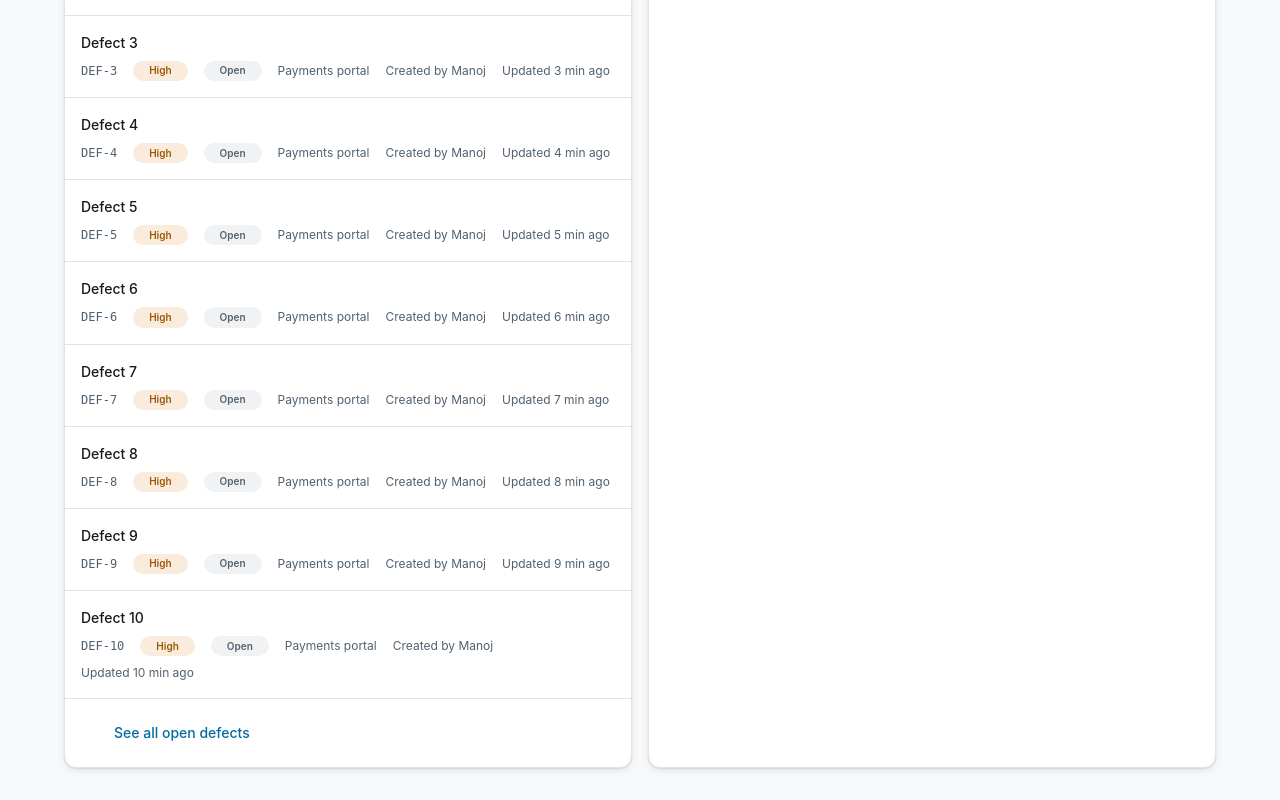
Scenario: MyWorkPage › shows a see-all button when more than 10 are open and explains it is coming soon
(page scrolled)
Step 1. Click the button "See all open defects" → (182, 733), box [81,715,283,751]
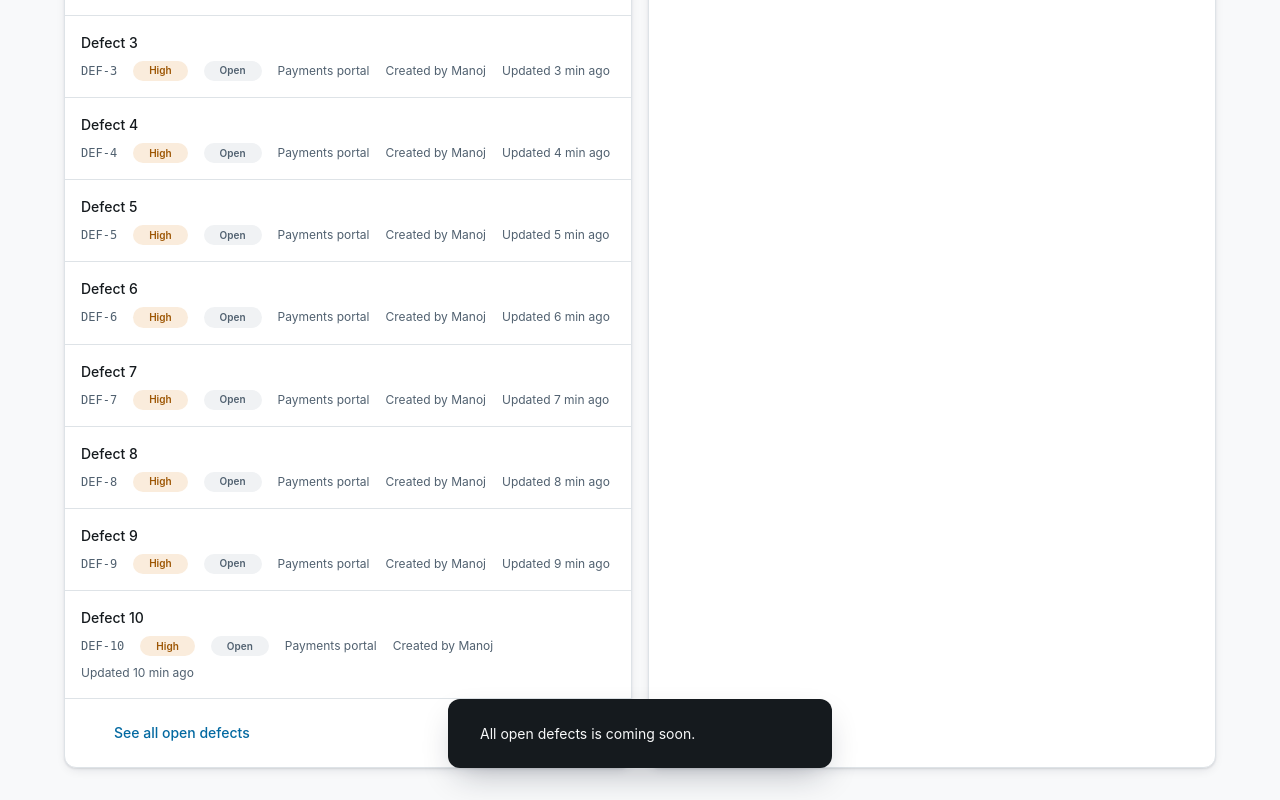
Result: the message reads "All open defects is coming soon." at [480,725,695,742]
